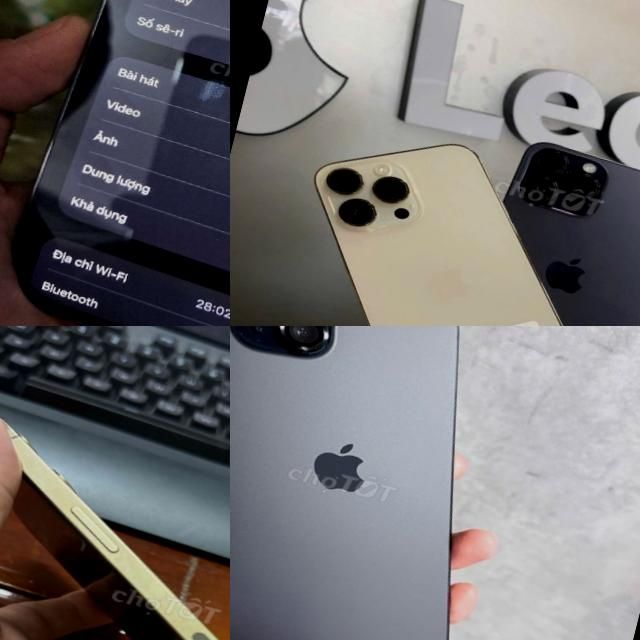gen_12_13: (0, 382, 230, 640)
gen_14: (259, 103, 640, 326), (0, 0, 230, 326)
gen_15: (230, 326, 546, 640)
